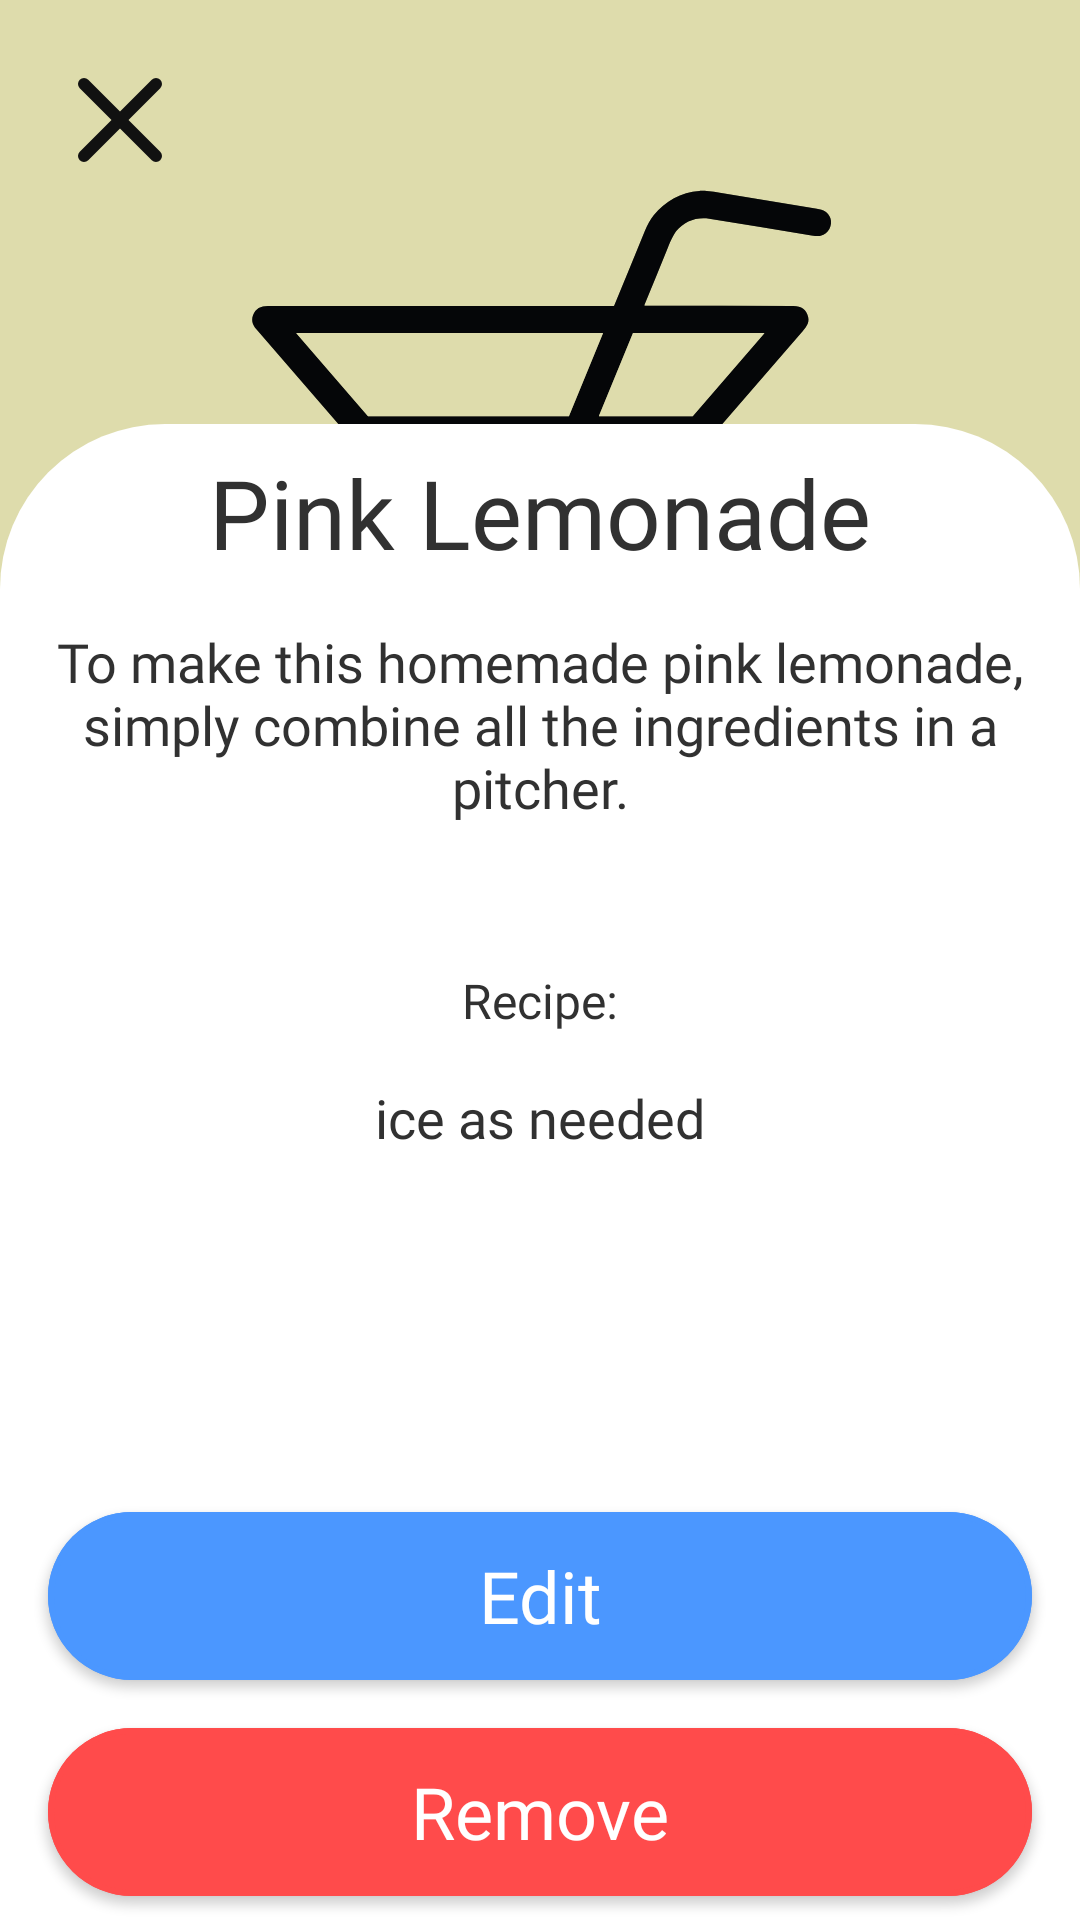

Screen size 1080x1920. Icon name, then its box in pixels as (left=x1, top=y1, right=x2, bottom=y2):
close: (left=78, top=78, right=162, bottom=162)
